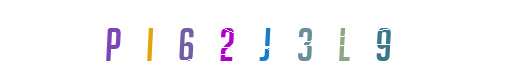2: (200, 0, 280, 80)
3: (226, 0, 306, 80)
6: (187, 0, 267, 80)
9: (344, 0, 424, 80)
I: (110, 0, 190, 80)
J: (220, 0, 300, 80)
L: (285, 0, 365, 80)
P: (110, 0, 190, 80)
